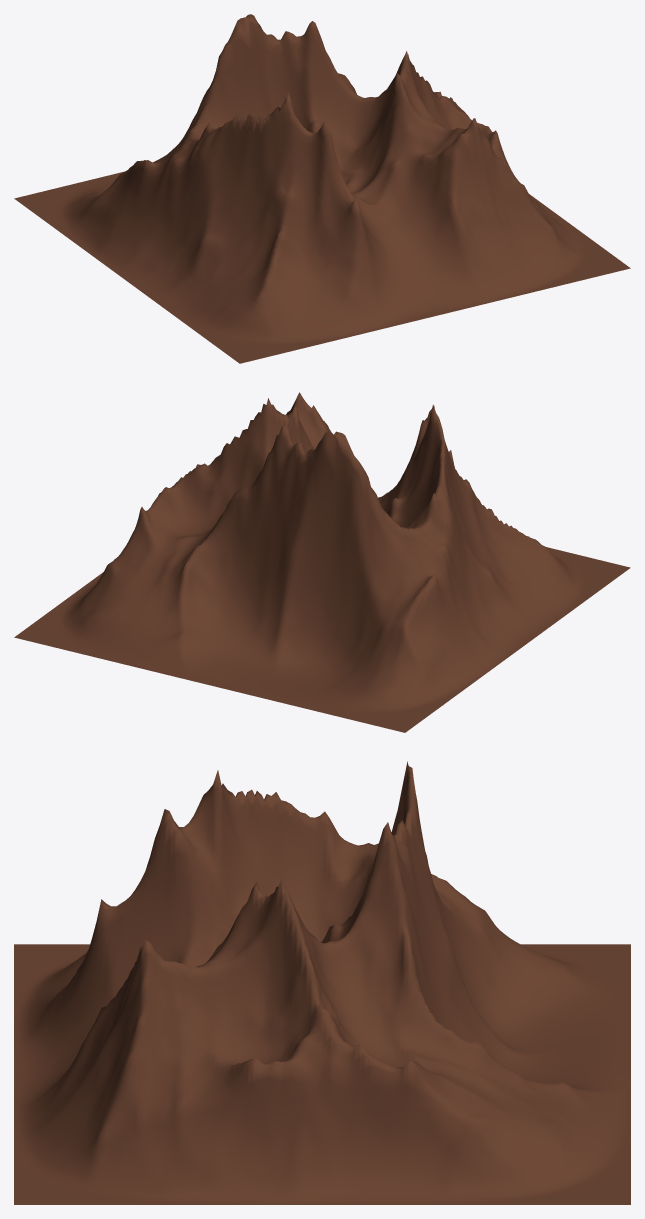
3 renders of one model, top to bottom at view 1: azimuth 30°, elevation 25°; view 2: azimuth 150°, elevation 25°; view 3: azimuth 270°, elevation 25°, orthographic. The views are drawn at different scales.
Visible parts, largest first — view 1: Landscape.001; view 2: Landscape.001; view 3: Landscape.001.
Part boxes in pixels (bbox=[...]): Landscape.001: bbox=[14, 14, 630, 363]; Landscape.001: bbox=[14, 392, 630, 732]; Landscape.001: bbox=[14, 761, 630, 1204].
Size of the model in its own units: 1686 by 853 by 1686.
